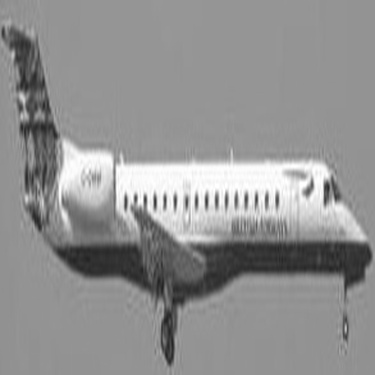airplane: (4, 1, 368, 369)
